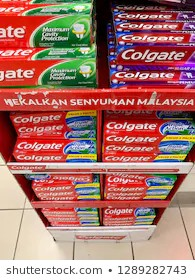colgate-family: (103, 118, 195, 152), (11, 111, 101, 141)
colgate-small: (1, 5, 99, 46), (1, 48, 98, 89)
